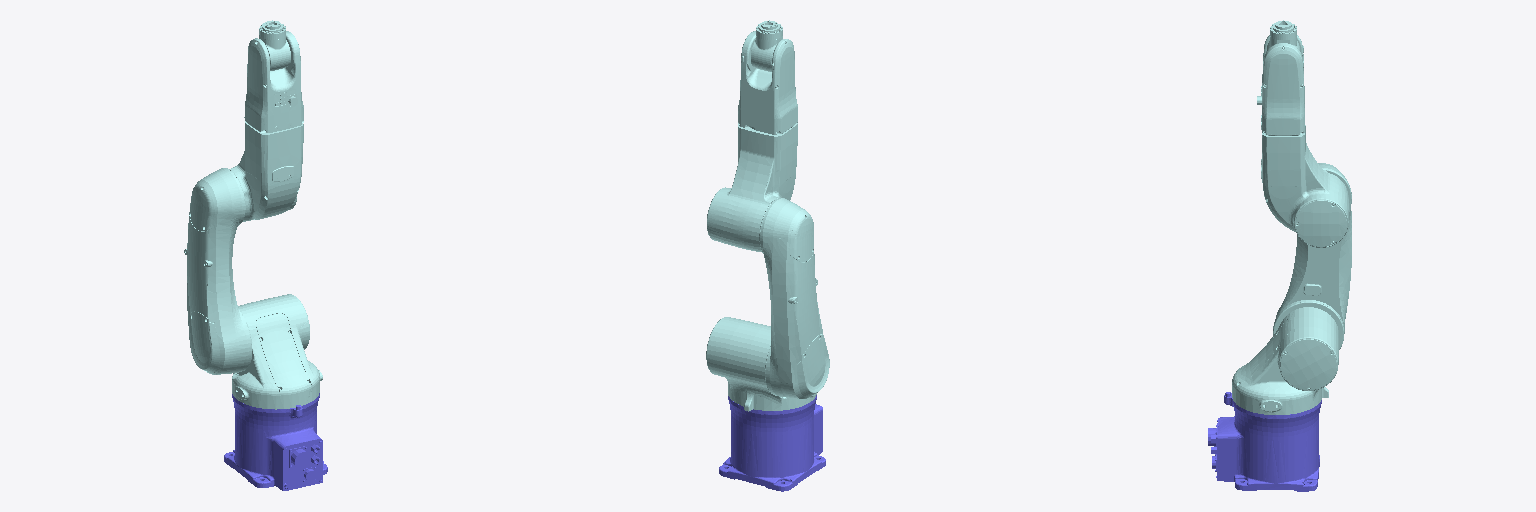
The robot description file, URDF, robot "arctos":
<?xml version="1.0" ?>
<!-- =================================================================================== -->
<!-- |    This document was autogenerated by xacro from arctos.xacro                   | -->
<!-- |    EDITING THIS FILE BY HAND IS NOT RECOMMENDED                                 | -->
<!-- =================================================================================== -->
<robot name="arctos">
  <material name="white">
    <color rgba="1.0 1.0 1.0 1.000"/>
  </material>
  <material name="black">
    <color rgba="0.0 0.0 0.0 1.0"/>
  </material>
  <material name="base_blue">
    <color rgba="0.50196 0.50196 1 1"/>
  </material>
  <material name="blue">
    <color rgba="0.78431 0.98039 0.98039 1"/>
  </material>
  <material name="gray">
    <color rgba="0.78431 0.98039 0.98039 1"/>
  </material>
  <!-- <xacro:include filename="$(find arctos_description)/urdf/arctos_gripper.xacro" /> -->
  <link name="world"/>
  <joint name="world_joint" type="fixed">
    <parent link="world"/>
    <child link="base_link"/>
  </joint>
  <link name="base_link">
    <visual>
      <origin rpy="0 0 0" xyz="0 0 0"/>
      <geometry>
        <mesh filename="package://arctos_description/meshes/base_link.STL"/>
      </geometry>
      <material name="base_blue"/>
    </visual>
    <collision>
      <origin rpy="0 0 0" xyz="0 0 0"/>
      <geometry>
        <mesh filename="package://arctos_description/meshes/base_link.STL"/>
      </geometry>
    </collision>
    <inertial>
      <origin rpy="0 0 0" xyz="-0.00047006 -0.012257 0.10022"/>
      <mass value="55.785"/>
      <inertia ixx="0.39179" ixy="-0.0027323" ixz="-0.00075955" iyy="0.323" iyz="-0.022558" izz="0.34492"/>
    </inertial>
  </link>
  <link name="link_1">
    <visual>
      <origin rpy="0 0 0" xyz="0 0 0"/>
      <geometry>
        <mesh filename="package://arctos_description/meshes/link_1.STL"/>
      </geometry>
      <material name="blue"/>
    </visual>
    <collision>
      <origin rpy="0 0 0" xyz="0 0 0"/>
      <geometry>
        <mesh filename="package://arctos_description/meshes/link_1.STL"/>
      </geometry>
    </collision>
    <inertial>
      <origin rpy="0 0 0" xyz="0.0075871 0.03734 0.10645"/>
      <mass value="44.267"/>
      <inertia ixx="0.28548" ixy="-0.012987" ixz="-0.013929" iyy="0.25047" iyz="-0.073189" izz="0.26167"/>
    </inertial>
  </link>
  <link name="link_2">
    <visual>
      <origin rpy="0 0 0" xyz="0 0 0"/>
      <geometry>
        <mesh filename="package://arctos_description/meshes/link_2.STL"/>
      </geometry>
      <material name="gray"/>
    </visual>
    <collision>
      <origin rpy="0 0 0" xyz="0 0 0"/>
      <geometry>
        <mesh filename="package://arctos_description/meshes/link_2.STL"/>
      </geometry>
    </collision>
    <inertial>
      <origin rpy="0 0 0" xyz="-0.068044 0.021826 0.15762"/>
      <mass value="43.339"/>
      <inertia ixx="0.97722" ixy="0.00042244" ixz="-0.021124" iyy="0.93504" iyz="-0.078229" izz="0.099171"/>
    </inertial>
  </link>
  <link name="link_3">
    <visual>
      <origin rpy="0 0 0" xyz="0 0 0"/>
      <geometry>
        <mesh filename="package://arctos_description/meshes/link_3.STL"/>
      </geometry>
      <material name="gray"/>
    </visual>
    <collision>
      <origin rpy="0 0 0" xyz="0 0 0"/>
      <geometry>
        <mesh filename="package://arctos_description/meshes/link_3.STL"/>
      </geometry>
    </collision>
    <inertial>
      <origin rpy="0 0 0" xyz="0.054747 -0.045778 0.060447"/>
      <mass value="37.594"/>
      <inertia ixx="0.31727" ixy="-0.0048815" ixz="0.0065087" iyy="0.26582" iyz="0.088578" izz="0.16116"/>
    </inertial>
  </link>
  <link name="link_4">
    <visual>
      <origin rpy="0 0 0" xyz="0 0 0"/>
      <geometry>
        <mesh filename="package://arctos_description/meshes/link_4.STL"/>
      </geometry>
      <material name="gray"/>
    </visual>
    <collision>
      <origin rpy="0 0 0" xyz="0 0 0"/>
      <geometry>
        <mesh filename="package://arctos_description/meshes/link_4.STL"/>
      </geometry>
    </collision>
    <inertial>
      <origin rpy="0 0 0" xyz="0.0051846 -0.00064606 0.10645"/>
      <mass value="14.917"/>
      <inertia ixx="0.062769" ixy="3.6977e-05" ixz="-0.001868" iyy="0.069443" iyz="-0.00032273" izz="0.028683"/>
    </inertial>
  </link>
  <link name="link_5">
    <visual>
      <origin rpy="0 0 0" xyz="0 0 0"/>
      <geometry>
        <mesh filename="package://arctos_description/meshes/link_5.STL"/>
      </geometry>
      <material name="gray"/>
    </visual>
    <collision>
      <origin rpy="0 0 0" xyz="0 0 0"/>
      <geometry>
        <mesh filename="package://arctos_description/meshes/link_5.STL"/>
      </geometry>
    </collision>
    <inertial>
      <origin rpy="0 0 0" xyz="-0.00049422 2.4246E-07 0.0067098"/>
      <mass value="0.34309"/>
      <inertia ixx="0.00034995" ixy="-1.2487e-09" ixz="-1.1371e-06" iyy="0.00030039" iyz="-1.4302e-09" izz="0.00022745"/>
    </inertial>
  </link>
  <link name="link_6">
    <visual>
      <origin rpy="0 0 0" xyz="0 0 0"/>
      <geometry>
        <mesh filename="package://arctos_description/meshes/link_6.STL"/>
      </geometry>
      <material name="gray"/>
    </visual>
    <collision>
      <origin rpy="0 0 0" xyz="0 0 0"/>
      <geometry>
        <mesh filename="package://arctos_description/meshes/link_6.STL"/>
      </geometry>
    </collision>
    <inertial>
      <origin rpy="0.0 0.0 0.0" xyz="3.1972E-05 -5.2042E-18 0.011587"/>
      <mass value="0.068739"/>
      <inertia ixx="2.0617e-05" ixy="-1.6907e-20" ixz="-2.849e-08" iyy="2.0453e-05" iyz="2.0027e-21" izz="3.4376e-05"/>
    </inertial>
  </link>
  <!--Change limit of joints here-->
  <joint name="X_joint" type="revolute">
    <parent link="base_link"/>
    <child link="link_1"/>
    <origin rpy="0 0 0" xyz="0 0 0.183"/>
    <axis xyz="0 0 1"/>
    <limit effort="1" lower="-2.9671" upper="2.9671" velocity="3.0543"/>
  </joint>
  <!-- Add transmission element -->
  <transmission name="transmission_X_joint">
    <type>transmission_interface/SimpleTransmission</type>
    <joint name="X_joint">
      <hardwareInterface>hardware_interface/PositionJointInterface</hardwareInterface>
    </joint>
    <actuator name="X_joint_motor">
      <mechanicalReduction>1.0</mechanicalReduction>
    </actuator>
  </transmission>
  <joint name="Y_joint" type="revolute">
    <parent link="link_1"/>
    <child link="link_2"/>
    <origin rpy="0 0 0" xyz="-0.048 0.075 0.15"/>
    <axis xyz="-1 0 0"/>
    <limit effort="1" lower="-1.7453" upper="2.3562" velocity="3.4907"/>
  </joint>
  <!-- Add transmission element -->
  <transmission name="transmission_Y_joint">
    <type>transmission_interface/SimpleTransmission</type>
    <joint name="Y_joint">
      <hardwareInterface>hardware_interface/PositionJointInterface</hardwareInterface>
    </joint>
    <actuator name="Y_joint_motor">
      <mechanicalReduction>1.0</mechanicalReduction>
    </actuator>
  </transmission>
  <joint name="Z_joint" type="revolute">
    <parent link="link_2"/>
    <child link="link_3"/>
    <origin rpy="0 0 0" xyz="0 0.029976 0.36377"/>
    <axis xyz="-1 0 0"/>
    <limit effort="1" lower="-2.0769" upper="2.949606436" velocity="3.4907"/>
  </joint>
  <!-- Add transmission element -->
  <transmission name="transmission_Z_joint">
    <type>transmission_interface/SimpleTransmission</type>
    <joint name="Z_joint">
      <hardwareInterface>hardware_interface/PositionJointInterface</hardwareInterface>
    </joint>
    <actuator name="Z_joint_motor">
      <mechanicalReduction>1.0</mechanicalReduction>
    </actuator>
  </transmission>
  <joint name="A_joint" type="revolute">
    <parent link="link_3"/>
    <child link="link_4"/>
    <origin rpy="0 0 0" xyz="0.048 -0.09 0.198"/>
    <axis xyz="0 0 1"/>
    <limit effort="1" lower="-3.3161" upper="3.3161" velocity="5.236"/>
  </joint>
  <!-- Add transmission element -->
  <transmission name="transmission_A_joint">
    <type>transmission_interface/SimpleTransmission</type>
    <joint name="A_joint">
      <hardwareInterface>hardware_interface/PositionJointInterface</hardwareInterface>
    </joint>
    <actuator name="A_joint_motor">
      <mechanicalReduction>1.0</mechanicalReduction>
    </actuator>
  </transmission>
  <joint name="B_joint" type="revolute">
    <parent link="link_4"/>
    <child link="link_5"/>
    <origin rpy="0 0 0" xyz="0 0 0.207"/>
    <axis xyz="1 0 0"/>
    <limit effort="1" lower="-2.0944" upper="2.0944" velocity="5.236"/>
  </joint>
  <!-- Add transmission element -->
  <transmission name="transmission_B_joint">
    <type>transmission_interface/SimpleTransmission</type>
    <joint name="B_joint">
      <hardwareInterface>hardware_interface/PositionJointInterface</hardwareInterface>
    </joint>
    <actuator name="B_joint_motor">
      <mechanicalReduction>1.0</mechanicalReduction>
    </actuator>
  </transmission>
  <joint name="C_joint" type="revolute">
    <parent link="link_5"/>
    <child link="link_6"/>
    <origin rpy="0 0 0" xyz="0 0 0.052"/>
    <axis xyz="0.0 0.0 1.0"/>
    <limit effort="1" lower="-6.2832" upper="6.2832" velocity="8.3776"/>
  </joint>
  <!-- Add transmission element -->
  <transmission name="transmission_C_joint">
    <type>transmission_interface/SimpleTransmission</type>
    <joint name="C_joint">
      <hardwareInterface>hardware_interface/PositionJointInterface</hardwareInterface>
    </joint>
    <actuator name="C_joint_motor">
      <mechanicalReduction>1.0</mechanicalReduction>
    </actuator>
  </transmission>
</robot>

--- What the picture shows (computed from the rendered views, not written in the file) ---
3 views of the same robot in one strip: view 1: azimuth 30°, elevation 25°; view 2: azimuth 150°, elevation 25°; view 3: azimuth 270°, elevation 25° (orthographic).
Robot: arctos — 8 links, 7 joints (6 revolute, 1 fixed); root link world; default pose: all joints at 0.
Links seen in each view (by area): view 1: link_2, link_1, base_link, link_3, link_4, link_5; view 2: link_2, base_link, link_3, link_1, link_4, link_5; view 3: link_1, base_link, link_3, link_2, link_4.
Boxes of the visible links, x1,y1,x2,y2 form: link_2: [184, 168, 251, 374]; link_1: [232, 294, 322, 409]; base_link: [224, 393, 327, 490]; link_3: [227, 121, 303, 225]; link_4: [244, 31, 303, 132]; link_5: [259, 35, 290, 70]; link_2: [760, 198, 829, 398]; base_link: [719, 395, 825, 491]; link_3: [707, 123, 797, 253]; link_1: [706, 317, 816, 411]; link_4: [738, 31, 797, 134]; link_5: [751, 36, 782, 71]; link_1: [1232, 302, 1343, 414]; base_link: [1208, 392, 1321, 491]; link_3: [1261, 125, 1351, 247]; link_2: [1273, 163, 1351, 333]; link_4: [1257, 35, 1304, 135].
Size in the robot's own frame: 0.282 by 0.3449 by 1.18 metres.
7 mesh visuals loaded from 7 distinct referenced files (7 binary STL).
